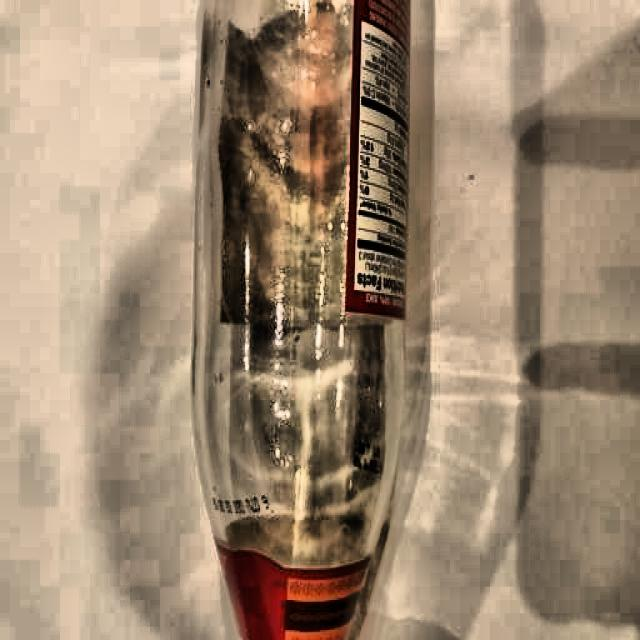glass: (196, 0, 408, 640)
